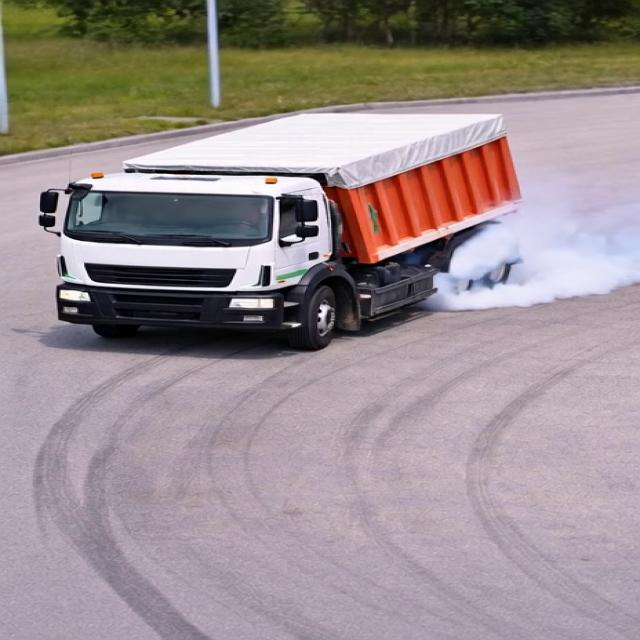Box: (125, 110, 505, 172)
Truck: (39, 83, 530, 354)
